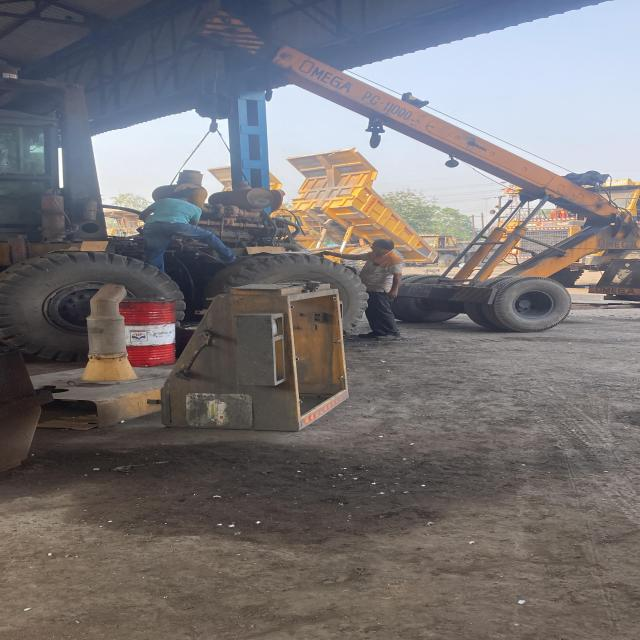dump_truck: (274, 144, 420, 256)
